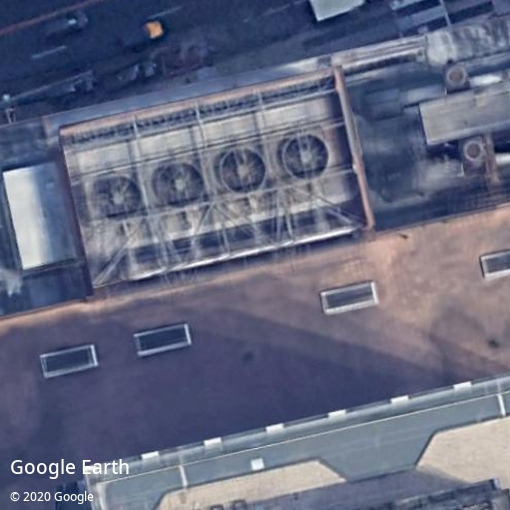Vent: (218, 145, 267, 195), (281, 131, 330, 180), (154, 162, 204, 209), (93, 176, 141, 221)
